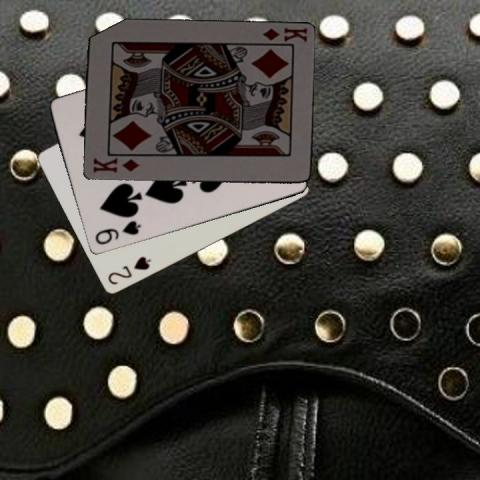2s: (104, 254, 152, 287)
9s: (92, 218, 142, 247)
Kd: (253, 24, 309, 46), (89, 154, 141, 174)
